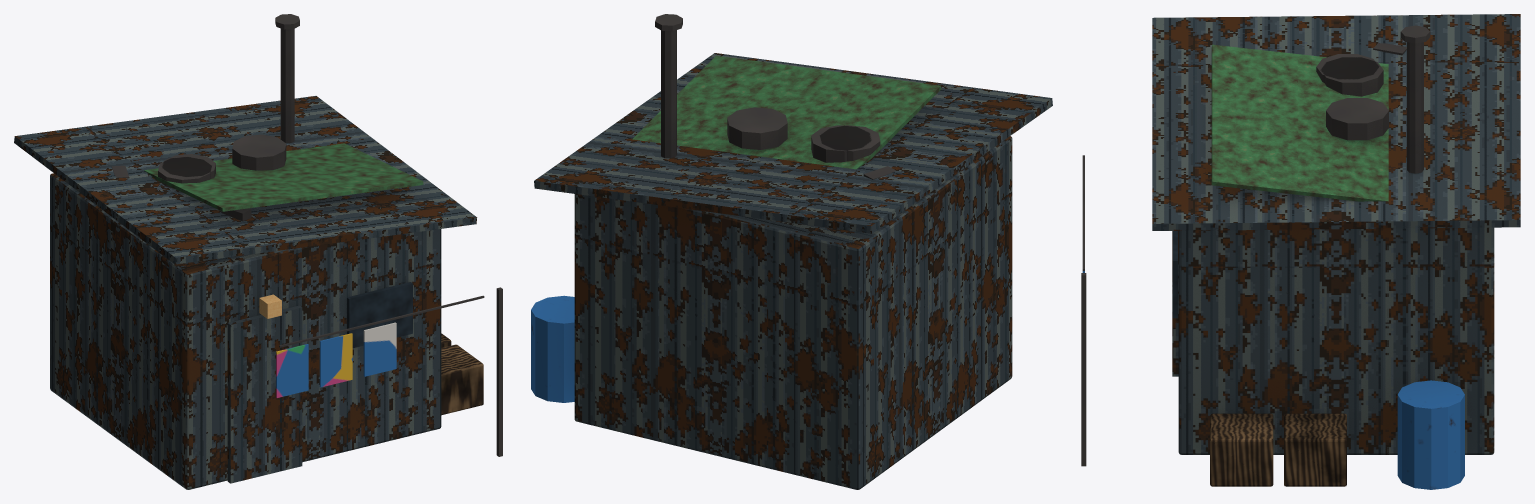
The model's file is city_shack_a.glb.
3 views of the same model, side by side, from view 1: azimuth 30°, elevation 25°; view 2: azimuth 150°, elevation 25°; view 3: azimuth 270°, elevation 25° (orthographic). The views are drawn at different scales.
Parts seen in each view (by area): view 1: city_shack_a; view 2: city_shack_a; view 3: city_shack_a.
Part boxes in pixels (box(x1,y1,x2,y2)): city_shack_a: box(14, 14, 502, 489); city_shack_a: box(531, 14, 1052, 489); city_shack_a: box(1081, 14, 1520, 489).
Bounding box in the file's own units: 4.27 × 4.15 × 4.18.
8 materials, 8 textured.
